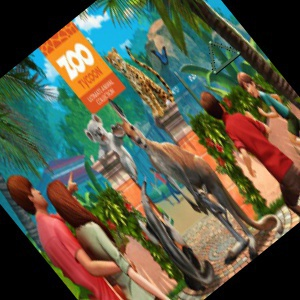triangle: (208, 38, 242, 76)
